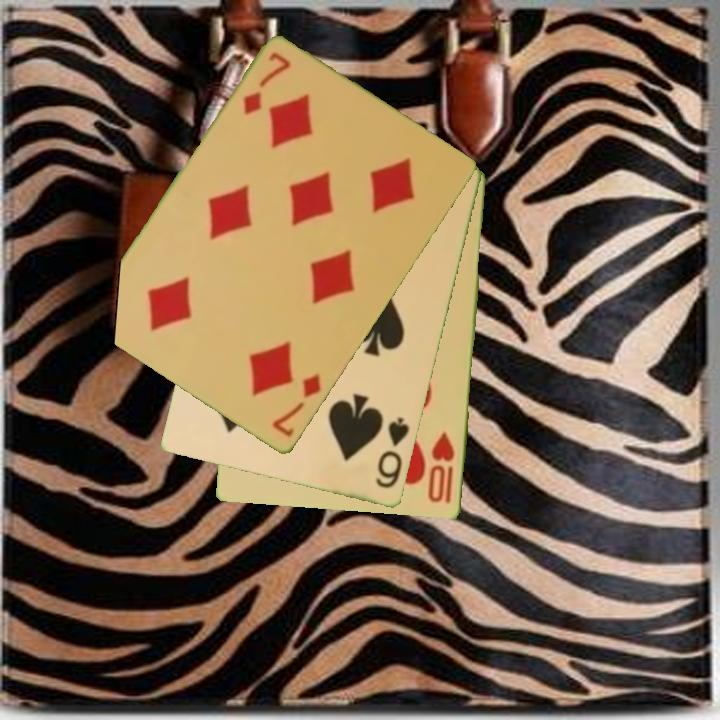10h: (425, 429, 458, 507)
6s: (372, 414, 413, 492)
7d: (268, 371, 324, 441), (239, 49, 294, 119)
